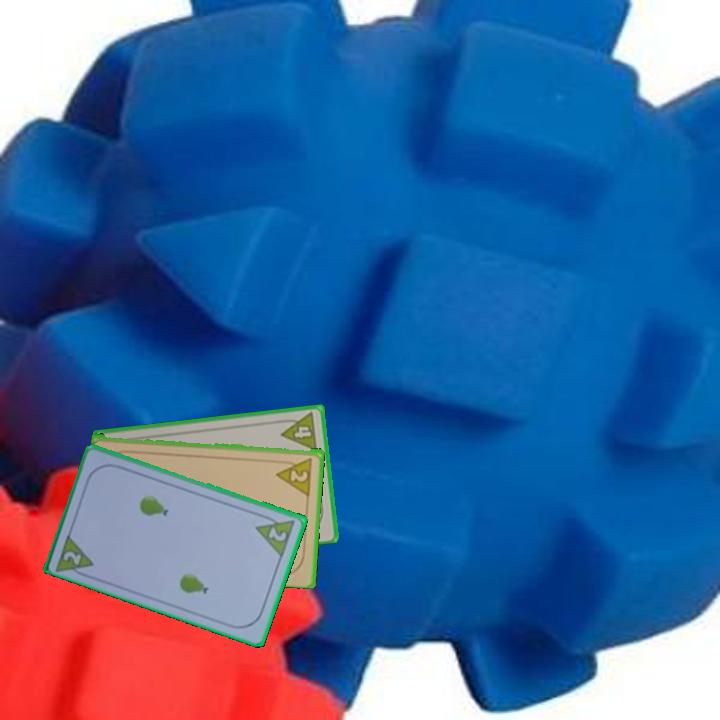2p: (252, 510, 298, 560), (273, 454, 315, 497), (60, 547, 85, 568)
4p: (276, 409, 320, 453)
